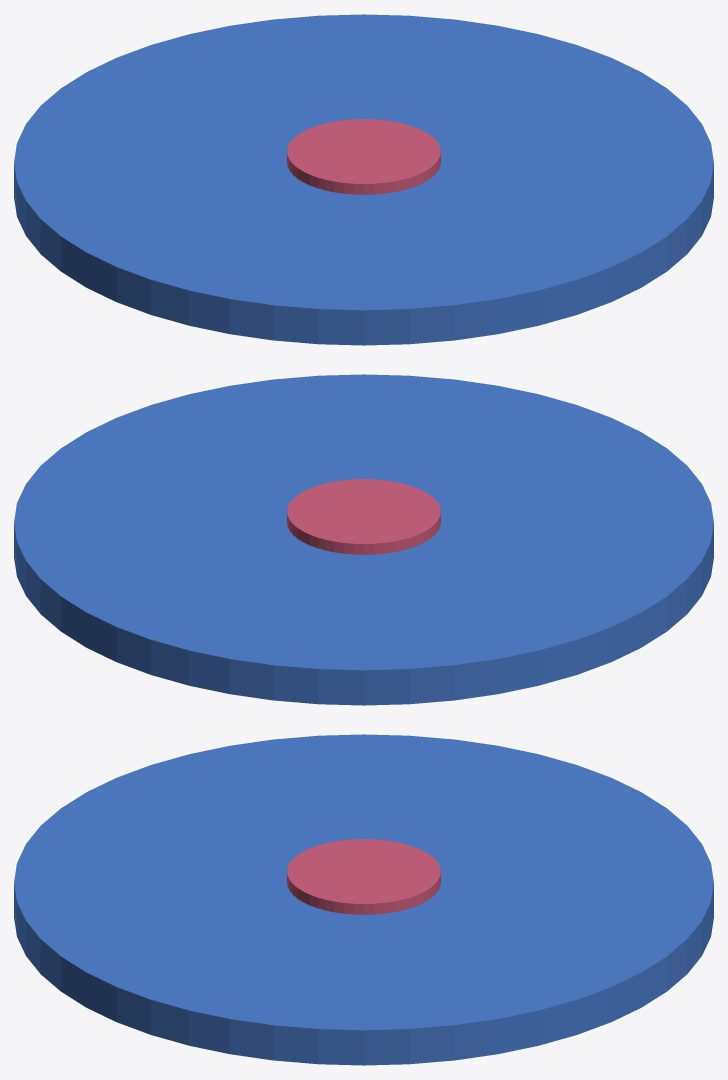
Rendered from planet_base 1.fbx.
3 renders of one model, top to bottom at view 1: azimuth 30°, elevation 25°; view 2: azimuth 150°, elevation 25°; view 3: azimuth 270°, elevation 25°, orthographic.
Visible parts, largest first — view 1: Cylinder.001, Cylinder.002; view 2: Cylinder.001, Cylinder.002; view 3: Cylinder.001, Cylinder.002.
Boxes of the visible parts, x1=… form: Cylinder.001: x1=14, y1=14, x2=713, y2=345; Cylinder.002: x1=287, y1=119, x2=440, y2=194; Cylinder.001: x1=14, y1=374, x2=713, y2=705; Cylinder.002: x1=287, y1=479, x2=440, y2=554; Cylinder.001: x1=14, y1=734, x2=713, y2=1065; Cylinder.002: x1=287, y1=839, x2=440, y2=914.
Bounding box in the file's own units: 1800 × 226 × 1800.
